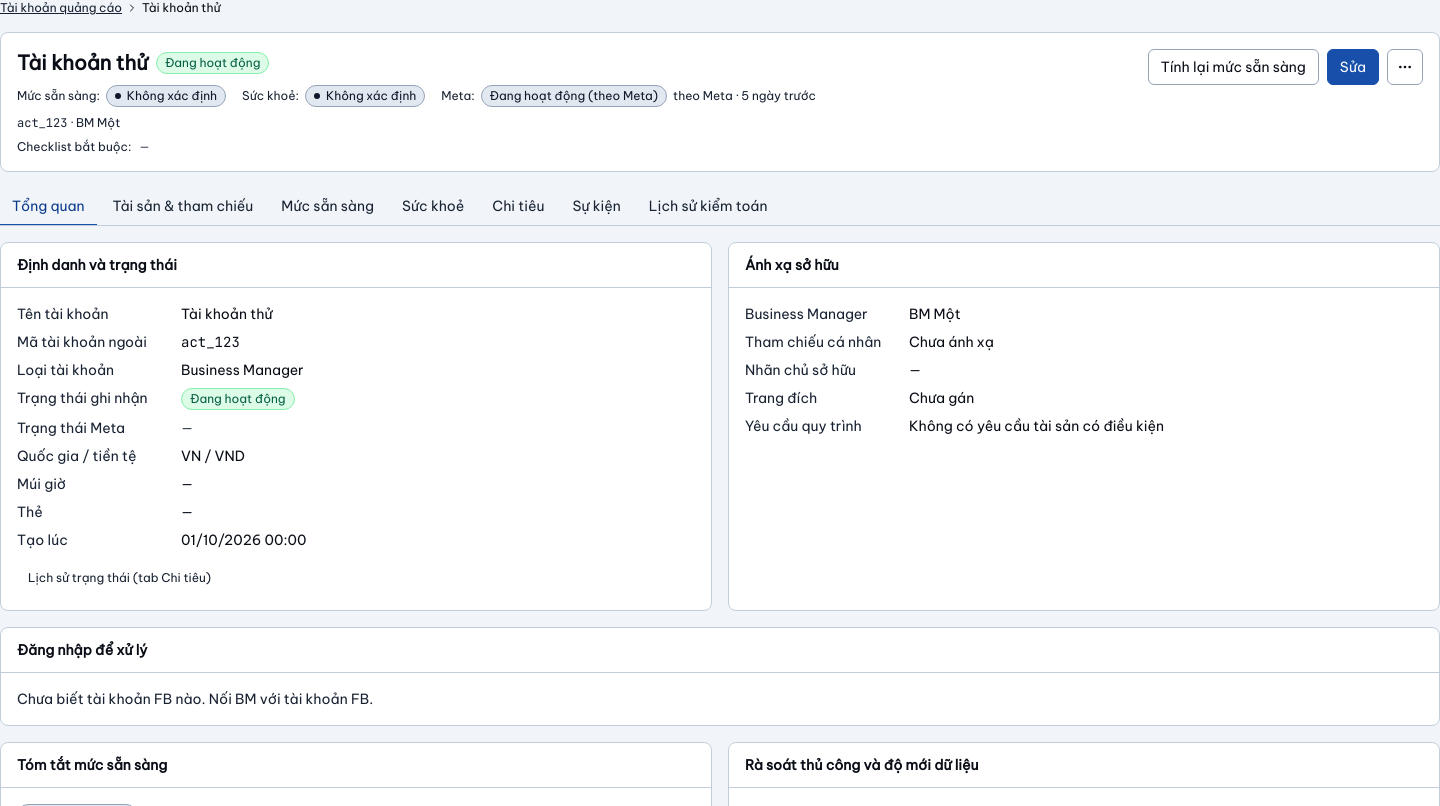
Scenario: Archive and restore use an AlertDialog, not window.confirm › names the object, the effect, the scope and that it can be undone
Check: the heading "Tài khoản thử" is shown, box [17,49,148,77]
Click the button named "Thêm hành động".
click(1405, 67)  # box [1387,49,1423,85]
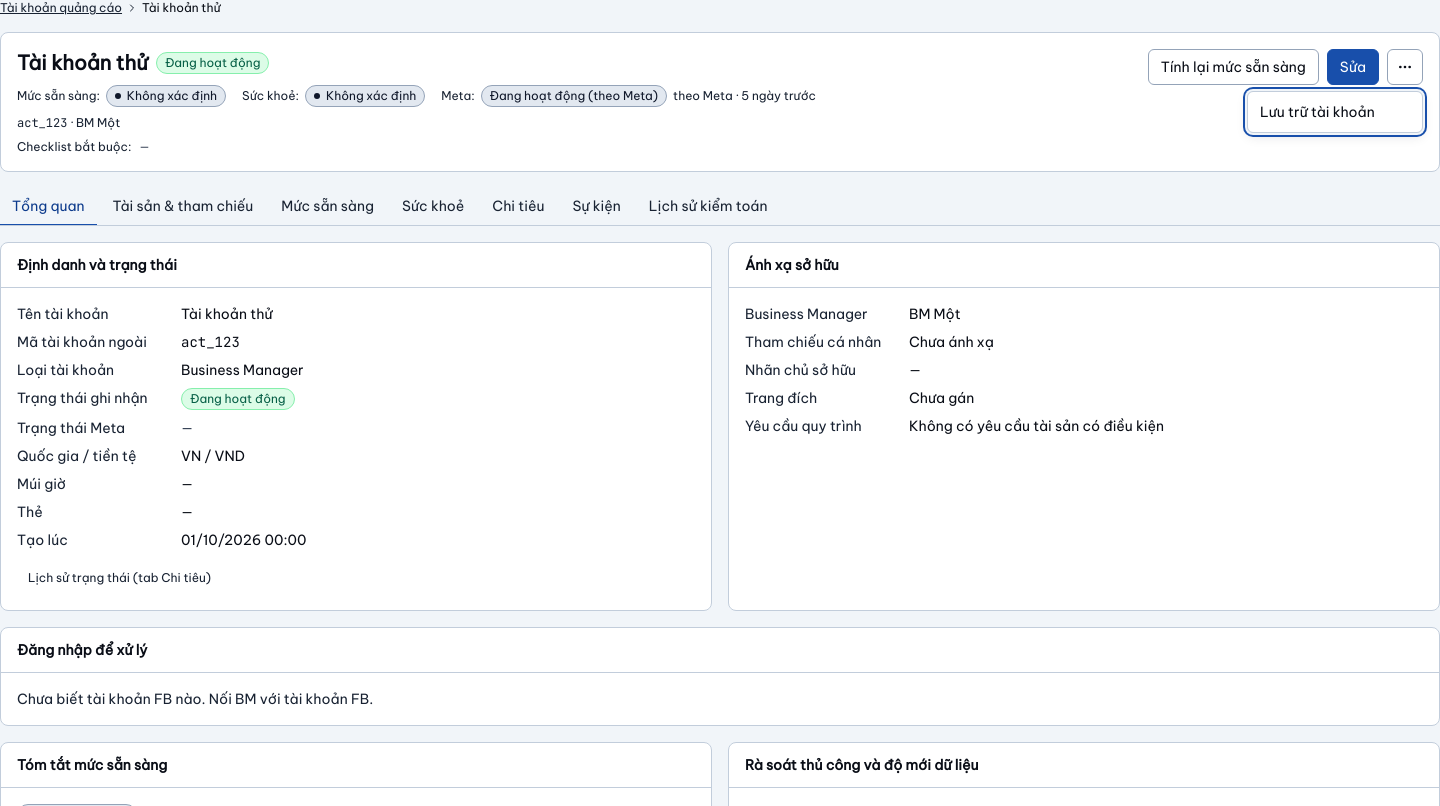
Click the menu item "Lưu trữ tài khoản".
click(1317, 112)  # box [1260,103,1375,121]
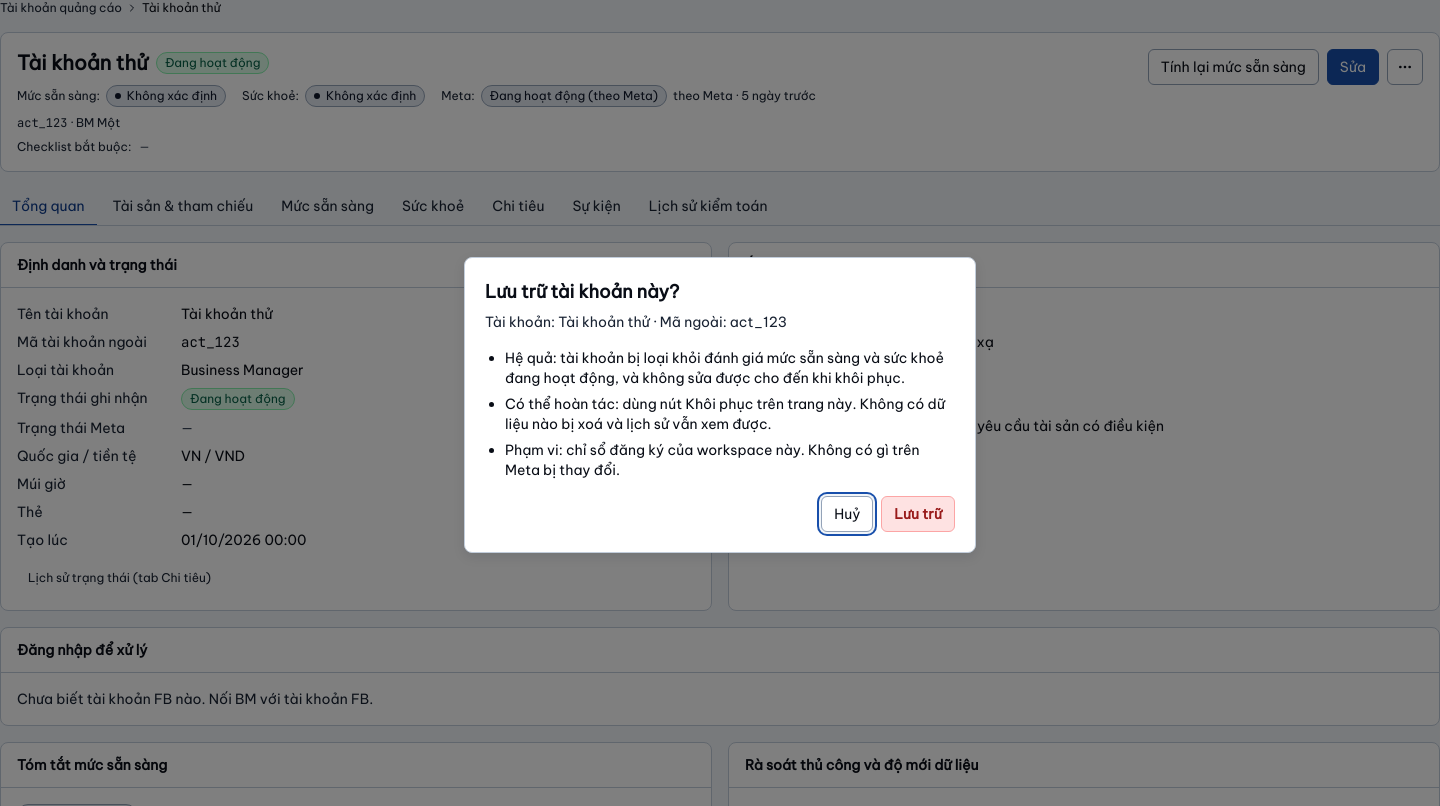
Check: the dialog shows "Tài khoản thử", box [485,313,787,331]
Check: the dialog shows "act_123", box [485,313,787,331]
Check: the dialog shows "không sửa được cho đến khi khôi phục", box [505,349,944,387]
